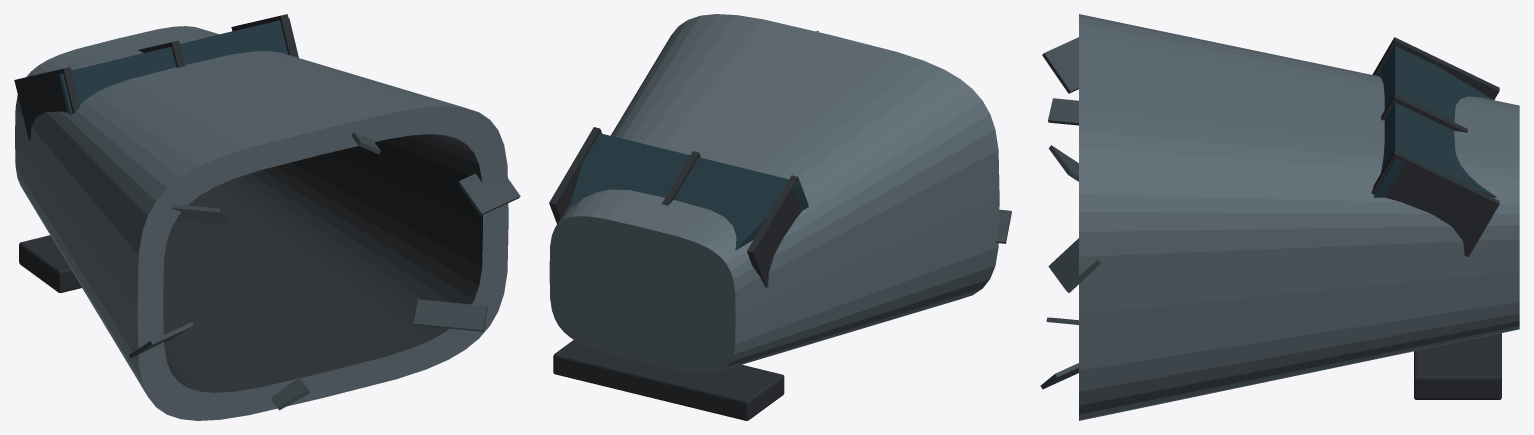
Rendered from site_hauler_nose.glb.
3 renders of one model, left to right at view 1: azimuth 30°, elevation 25°; view 2: azimuth 150°, elevation 25°; view 3: azimuth 270°, elevation 25°, orthographic. The views are drawn at different scales.
Parts seen in each view (by area): view 1: nose, tear0, chin, glass; view 2: nose, chin, glass; view 3: nose, chin, glass, tear0.
Boxes of the visible parts, bbox=[...] form: nose: bbox=[15, 26, 508, 420]; tear0: bbox=[129, 132, 520, 410]; chin: bbox=[14, 14, 297, 292]; glass: bbox=[58, 18, 298, 115]; nose: bbox=[549, 14, 999, 373]; chin: bbox=[549, 127, 807, 420]; glass: bbox=[569, 133, 808, 249]; nose: bbox=[1079, 14, 1519, 420]; chin: bbox=[1371, 37, 1501, 399]; glass: bbox=[1373, 46, 1496, 197]; tear0: bbox=[1040, 37, 1100, 389].
Size of the model in its own units: 5.39 by 3.6 by 5.44.
